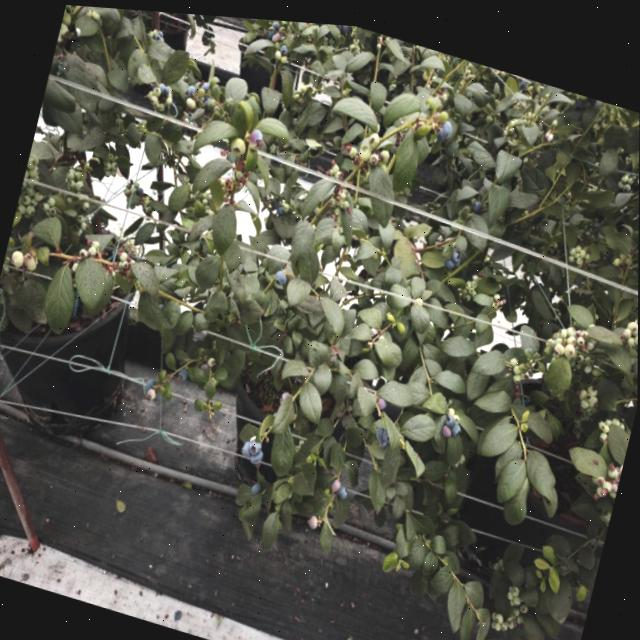RipeBlueBerry: (436, 109, 453, 129), (249, 445, 264, 463), (240, 436, 253, 454), (271, 266, 286, 281), (249, 435, 262, 452), (376, 420, 389, 437), (143, 374, 156, 391), (337, 480, 350, 496), (176, 364, 189, 380), (470, 191, 483, 206), (158, 80, 170, 94), (451, 416, 462, 431), (186, 81, 197, 96), (443, 251, 455, 264), (251, 477, 262, 491), (445, 408, 457, 420), (278, 39, 289, 52), (198, 78, 210, 89), (451, 244, 461, 256), (270, 16, 280, 27), (338, 20, 350, 27)
Semi-RipeBlueBerry: (249, 123, 265, 143), (308, 509, 319, 525), (331, 472, 342, 487), (441, 419, 453, 432), (376, 392, 388, 405), (270, 27, 280, 39), (199, 359, 208, 369)
UnripeBlueBerry: (229, 132, 248, 155), (21, 251, 39, 272), (9, 249, 25, 269), (560, 333, 576, 351), (357, 139, 371, 158), (367, 126, 380, 144), (377, 141, 390, 158), (599, 471, 612, 487), (606, 455, 619, 470), (621, 317, 633, 332), (184, 94, 197, 107), (21, 193, 33, 207), (28, 164, 39, 179), (576, 378, 587, 393), (368, 146, 379, 161), (117, 248, 129, 261), (73, 177, 84, 191), (586, 375, 598, 387), (32, 188, 43, 201), (579, 389, 590, 402), (27, 155, 37, 169), (512, 354, 522, 368), (151, 83, 162, 95), (566, 325, 577, 337), (512, 588, 523, 600), (446, 399, 456, 412), (146, 385, 156, 398), (207, 353, 217, 366), (45, 194, 55, 207), (79, 246, 89, 259), (557, 318, 567, 331), (511, 576, 521, 589), (588, 386, 598, 399), (347, 140, 357, 153), (511, 365, 522, 376), (148, 92, 158, 104), (630, 312, 638, 327), (495, 605, 505, 617), (508, 348, 518, 360), (466, 280, 477, 290), (65, 168, 75, 179), (87, 245, 97, 256), (519, 595, 529, 606), (67, 176, 76, 187), (81, 200, 90, 211), (26, 204, 35, 215), (619, 164, 628, 174), (470, 271, 478, 282), (164, 95, 172, 106), (464, 274, 472, 284), (493, 285, 500, 293), (634, 323, 638, 337)
